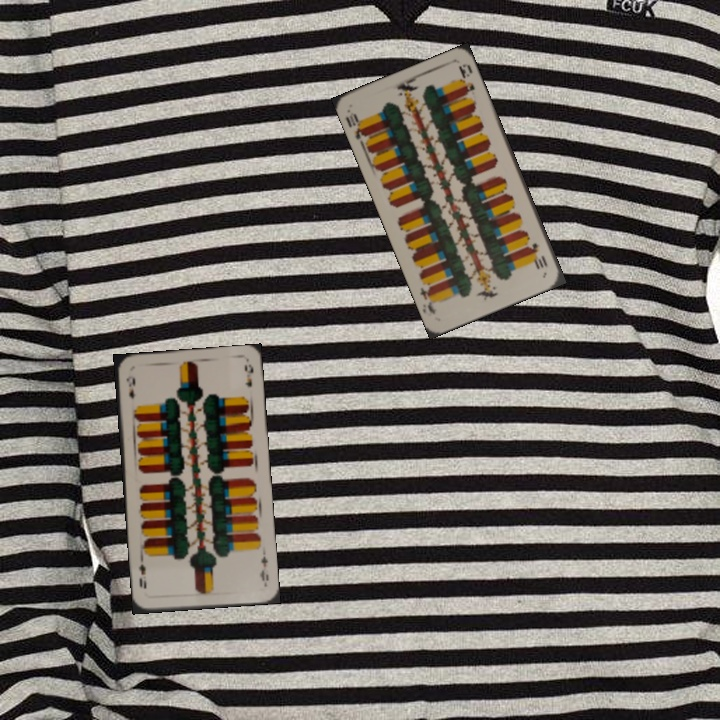E10: (342, 107, 370, 146), (526, 239, 550, 271)
E9: (255, 552, 271, 588), (123, 373, 138, 402)
